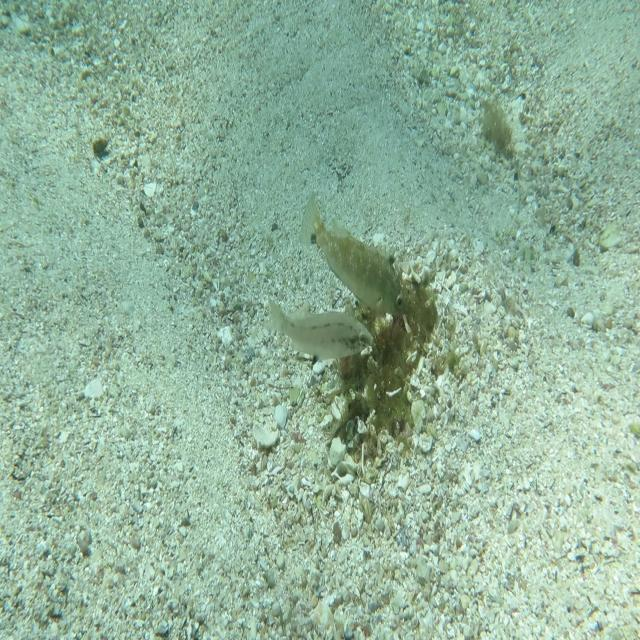NIP_CORE: (297, 187, 412, 319)
female: (266, 292, 374, 368)
nest: (327, 248, 468, 479)
